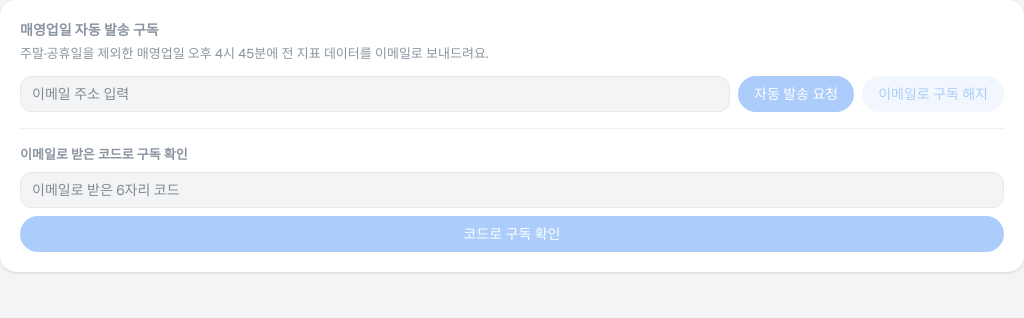
Test: SubscribePanel › shows a confirmation-email message after subscribing
This screenshot has width=1024, height=318.
In the field labelled "이메일 주소": (375, 94) x1=20 y1=76 x2=730 y2=112, type "user@example.com"
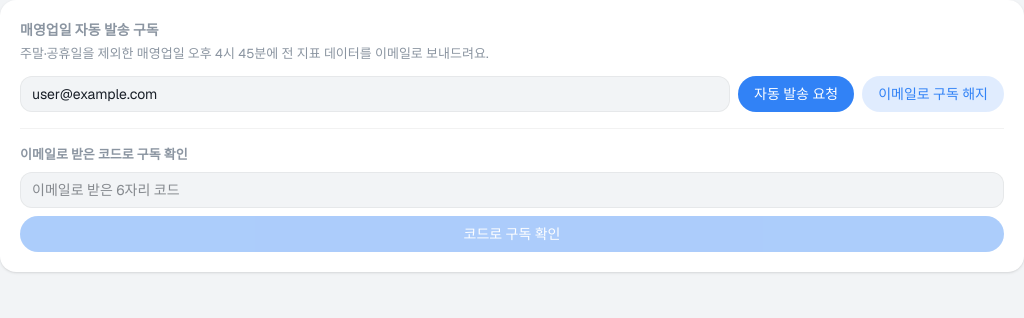
Click the button "자동 발송 요청": (796, 94) x1=738 y1=76 x2=854 y2=112
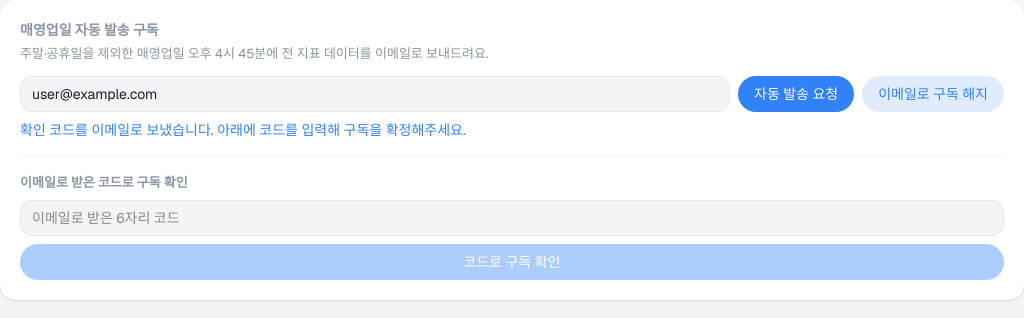
Result: the text "확인 코드를 이메일로 보냈습니다. 아래에 코드를 입력해 구독을 확정해주세요." is shown at x1=20 y1=120 x2=466 y2=138
